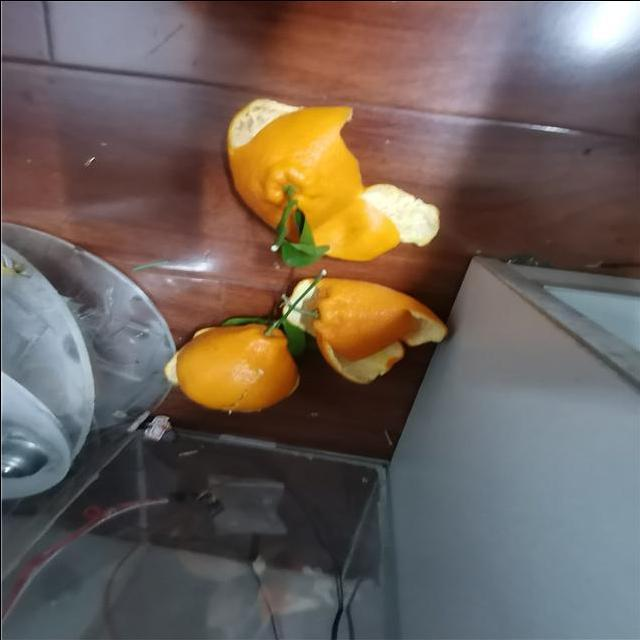orange peel: (212, 85, 455, 275), (291, 262, 456, 403), (146, 301, 302, 432)
